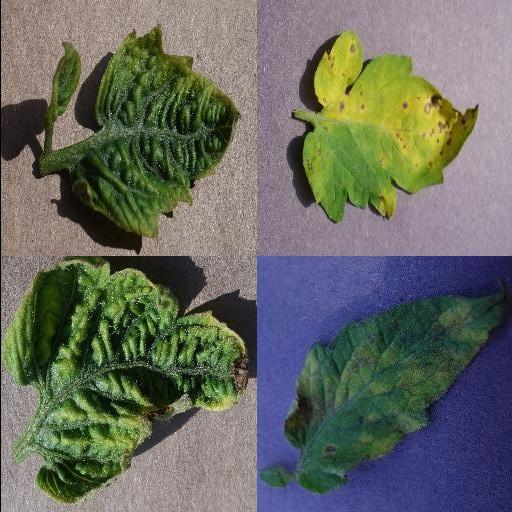Leaf Mold: (282, 288, 508, 498)
Septoria: (299, 33, 477, 224)
Yellow Leaf Curl Virus: (6, 260, 250, 501), (66, 22, 242, 238), (42, 41, 84, 121)
